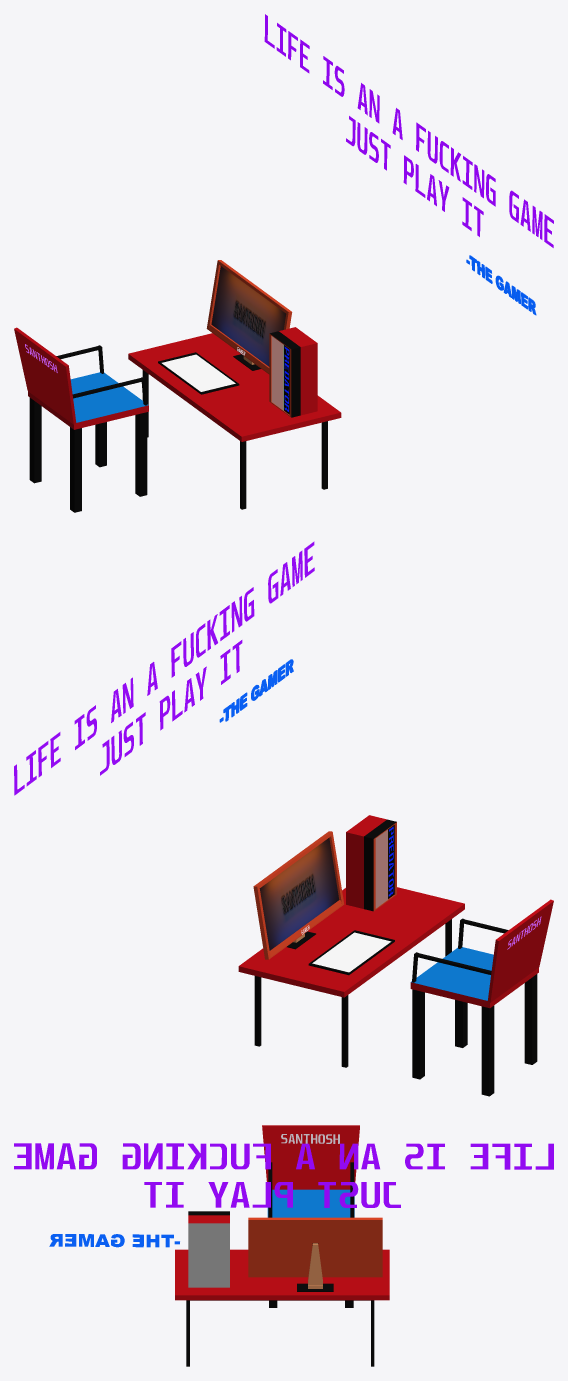
3 renders of one model, top to bottom at view 1: azimuth 30°, elevation 25°; view 2: azimuth 150°, elevation 25°; view 3: azimuth 270°, elevation 25°, orthographic. The views are drawn at different scales.
Parts seen in each view (by area): view 1: Plane, Text.003, Plane.001, Text.004; view 2: Plane, Text.003, Plane.001, Text.004; view 3: Plane, Text.003, Text.004, Text.
Part boxes in pixels (x1=…): Plane: x1=14, y1=260, x2=341, y2=512; Text.003: x1=264, y1=14, x2=553, y2=247; Plane.001: x1=211, y1=266, x2=286, y2=366; Text.004: x1=466, y1=255, x2=536, y2=315; Plane: x1=238, y1=815, x2=553, y2=1096; Text.003: x1=14, y1=541, x2=314, y2=795; Plane.001: x1=259, y1=838, x2=339, y2=950; Text.004: x1=219, y1=659, x2=293, y2=722; Plane: x1=175, y1=1125, x2=389, y2=1366; Text.003: x1=14, y1=1143, x2=553, y2=1207; Text.004: x1=49, y1=1234, x2=179, y2=1247; Text: x1=281, y1=1134, x2=339, y2=1143.
Size of the model in its own units: 11.75 by 9.61 by 16.23.
16 materials, 1 textured.
